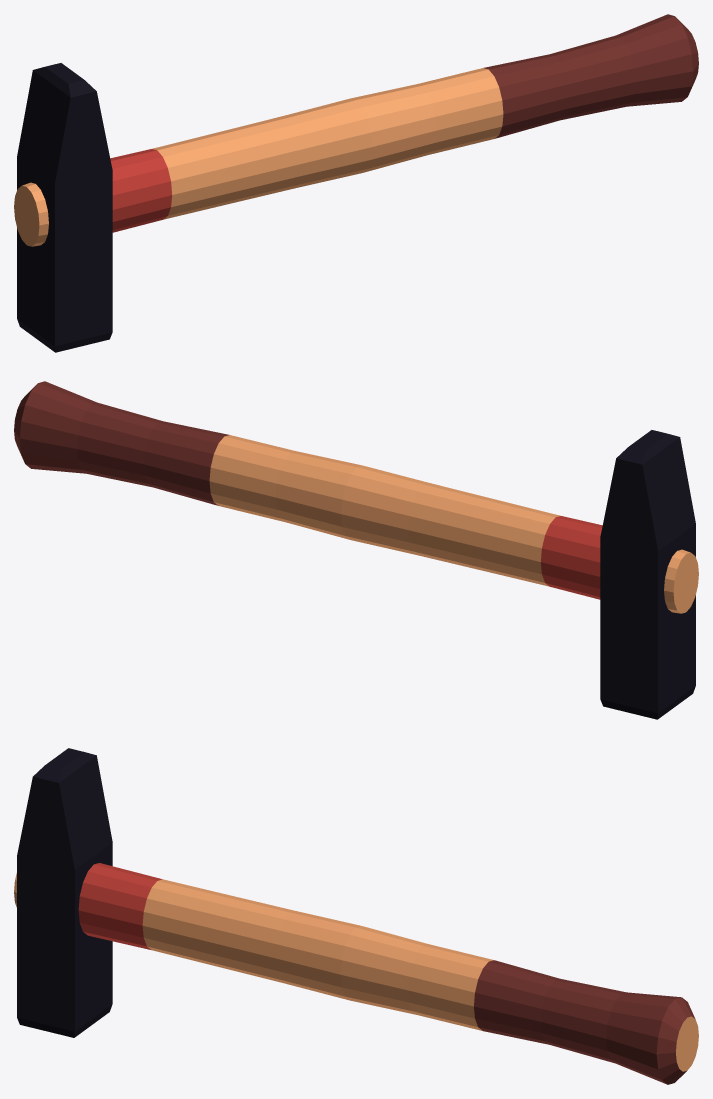
The model's file is hammermodel.fbx.
The picture shows the model from 3 angles, top to bottom: view 1: azimuth 30°, elevation 25°; view 2: azimuth 150°, elevation 25°; view 3: azimuth 330°, elevation 25°; orthographic projection.
Parts seen in each view (by area): view 1: Cube; view 2: Cube; view 3: Cube.
Boxes of the visible parts, left/top/right/bottom form: Cube: left=14, top=14, right=698, bottom=352; Cube: left=14, top=381, right=698, bottom=719; Cube: left=14, top=748, right=698, bottom=1084.
Size of the model in its own units: 450 by 169 by 44.6.
